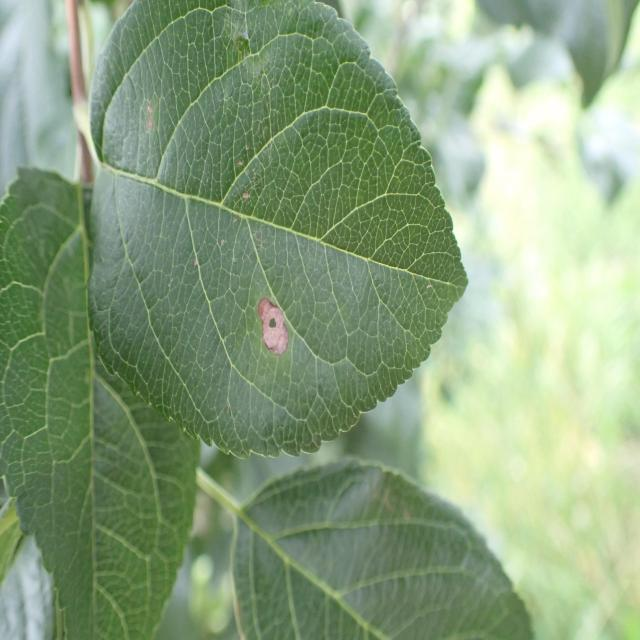Black Rot: (248, 280, 299, 390)
